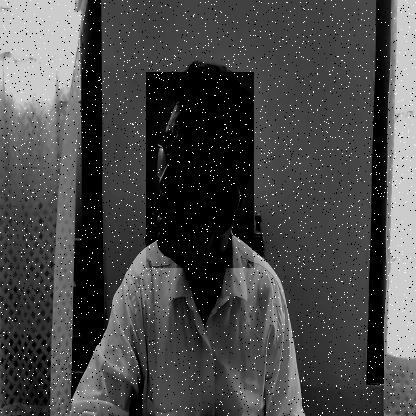Distracted: (146, 72, 254, 268)
